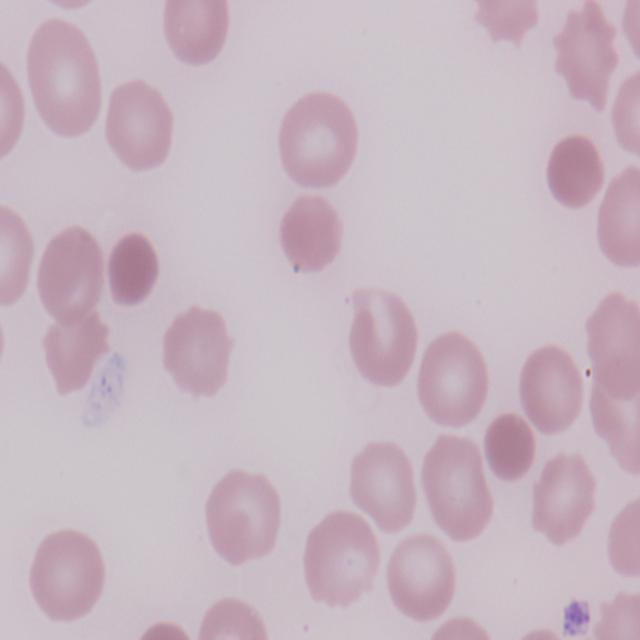RBC: (20, 14, 104, 143), (274, 84, 362, 194), (300, 508, 382, 616), (201, 467, 285, 569), (419, 434, 494, 548), (345, 284, 421, 394), (24, 525, 106, 625), (417, 324, 492, 432), (530, 445, 602, 552), (157, 306, 235, 404), (380, 526, 458, 622), (99, 80, 174, 178), (346, 439, 419, 536), (34, 225, 106, 322), (515, 342, 585, 438), (42, 308, 109, 398), (276, 192, 345, 278), (587, 286, 640, 394), (592, 162, 640, 275), (160, 0, 234, 69), (192, 590, 275, 640), (0, 202, 34, 313), (606, 486, 640, 588), (0, 47, 26, 172), (609, 64, 640, 166), (591, 587, 640, 640), (422, 615, 504, 640), (124, 620, 194, 640)
Spherocyte: (542, 130, 606, 213), (100, 230, 159, 312), (486, 412, 539, 483)
